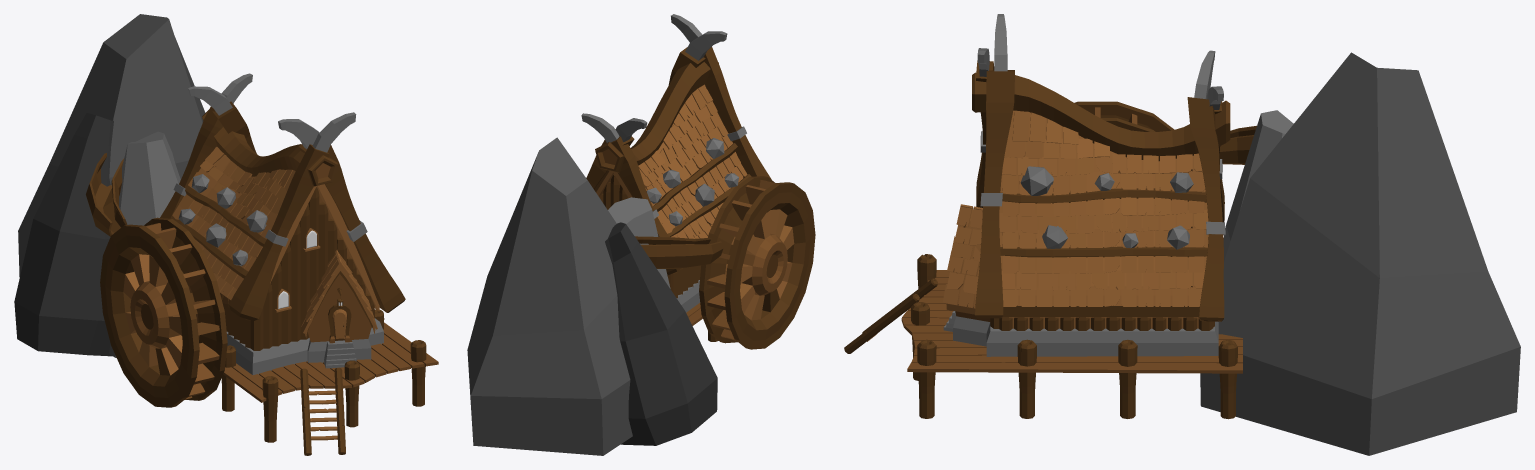
The model's file is A_MillBase.fbx.
3 renders of one model, left to right at view 1: azimuth 30°, elevation 25°; view 2: azimuth 150°, elevation 25°; view 3: azimuth 270°, elevation 25°, orthographic. The views are drawn at different scales.
Visible parts, largest first — view 1: A_MillBase.001, A_MillBaseMill; view 2: A_MillBase.001, A_MillBaseMill; view 3: A_MillBase.001, A_MillBaseMill.
Boxes of the visible parts, left/top/right/bottom form: A_MillBase.001: left=14, top=14, right=438, bottom=455; A_MillBaseMill: left=100, top=217, right=227, bottom=407; A_MillBase.001: left=467, top=14, right=771, bottom=455; A_MillBaseMill: left=699, top=176, right=815, bottom=349; A_MillBase.001: left=844, top=14, right=1520, bottom=455; A_MillBaseMill: left=1074, top=101, right=1174, bottom=131.
Bounding box in the file's own units: 926 × 1176 × 1883.
